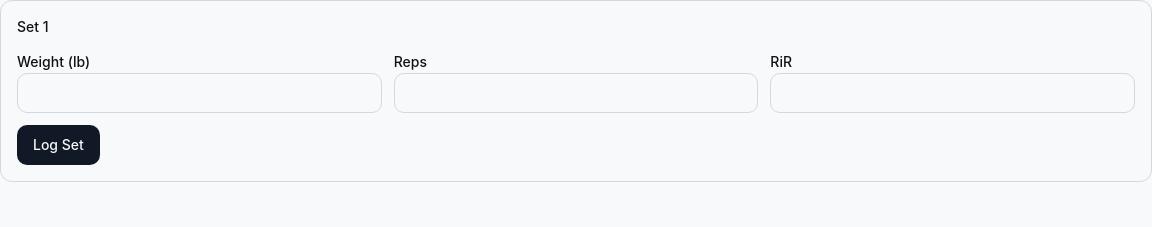
Test: SetInput › shows kg conversion hint when unit is lb
The image size is (1152, 227).
Type "100" into the field labelled "Weight (lb)" at (199, 93), box left=17, top=73, right=382, bottom=113
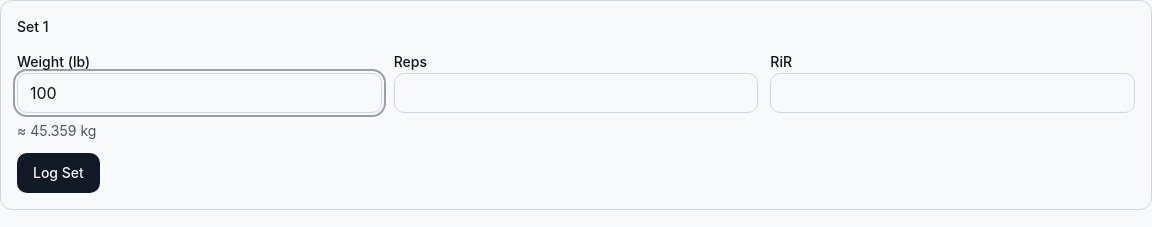
Expected: the text "≈ 45.359 kg" is shown, left=17, top=122, right=96, bottom=139
